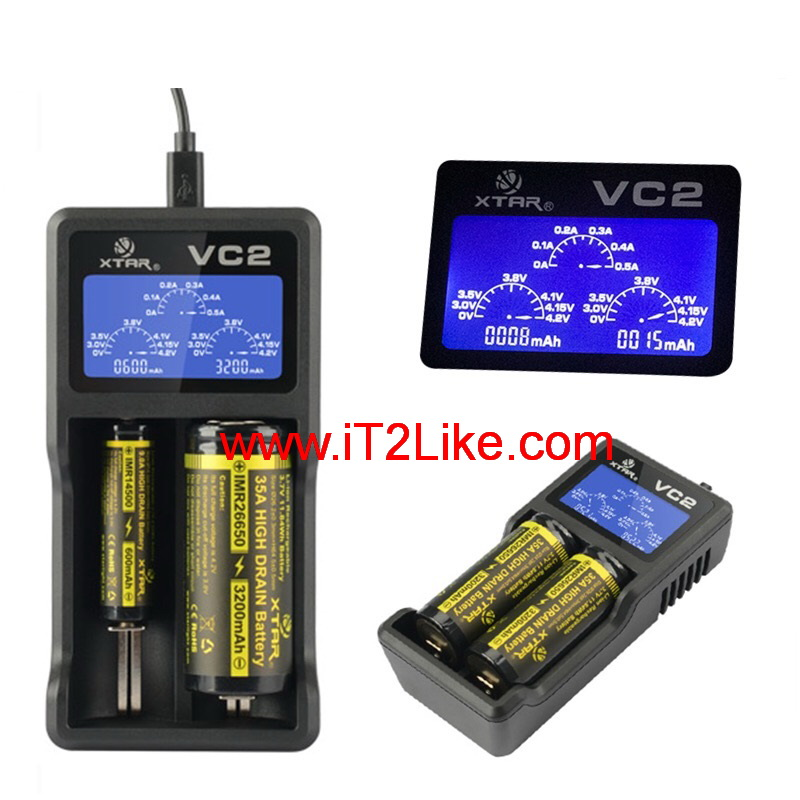Battery: (179, 419, 300, 710), (412, 506, 576, 655), (472, 539, 629, 690), (96, 423, 157, 624)
